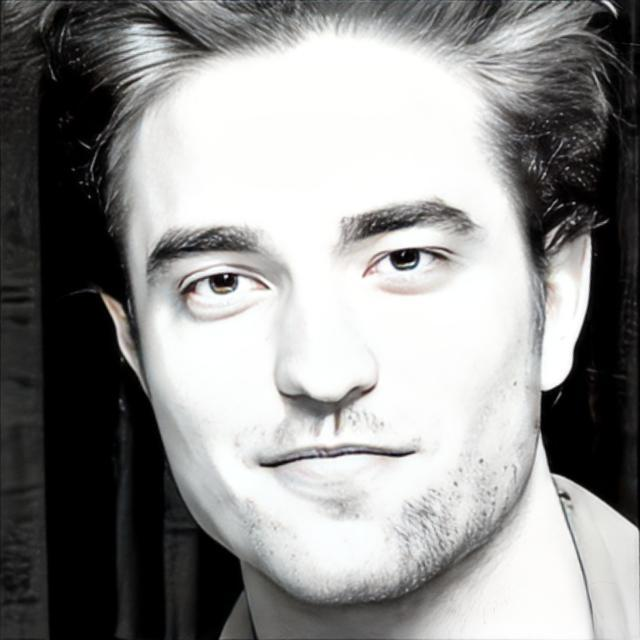content: (128, 39, 549, 606)
